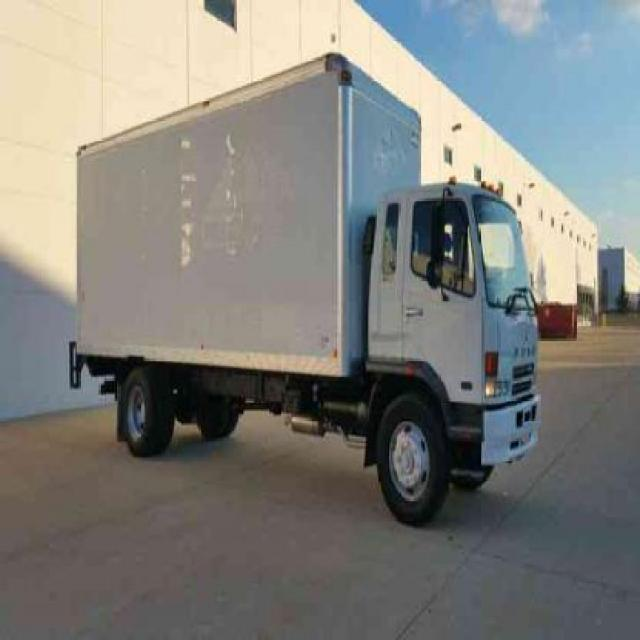truck: (69, 57, 541, 517)
